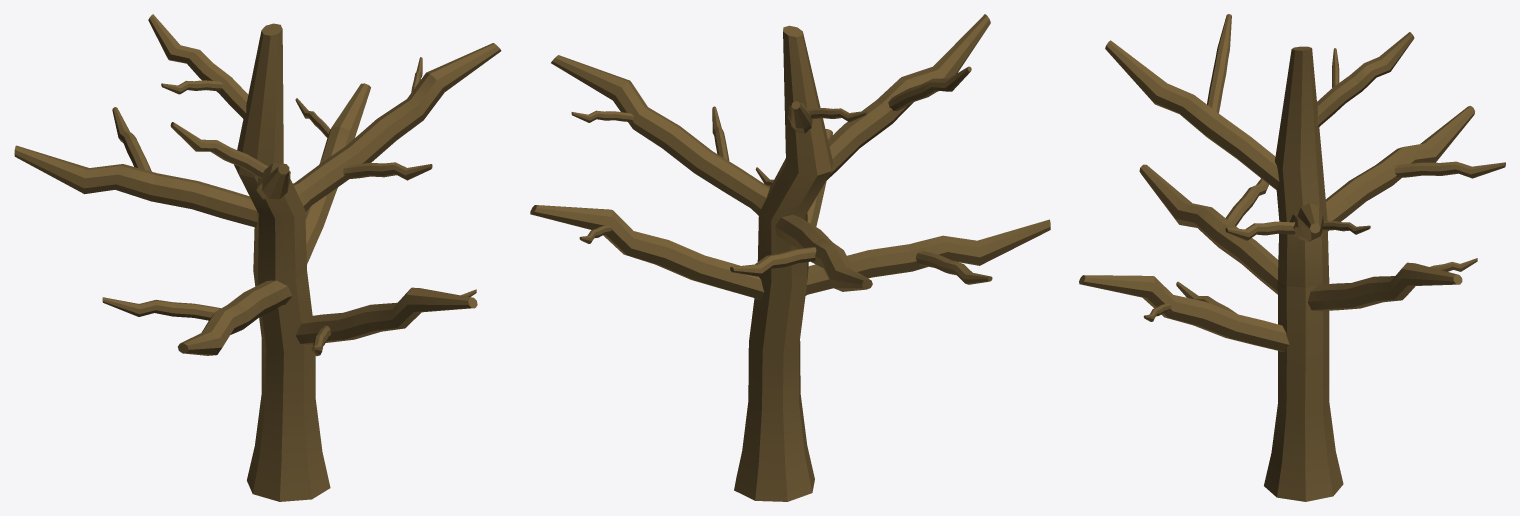
Rendered from Proto_Tree_06.fbx.
3 views of the same model, side by side, from view 1: azimuth 30°, elevation 25°; view 2: azimuth 150°, elevation 25°; view 3: azimuth 270°, elevation 25° (orthographic). The views are drawn at different scales.
Visible parts, largest first — view 1: polySurface1258; view 2: polySurface1258; view 3: polySurface1258.
Part boxes in pixels (x1=…): polySurface1258: x1=14, y1=14, x2=501, y2=501; polySurface1258: x1=530, y1=14, x2=1050, y2=501; polySurface1258: x1=1079, y1=14, x2=1505, y2=501.
Bounding box in the file's own units: 48 × 50.41 × 45.3.
